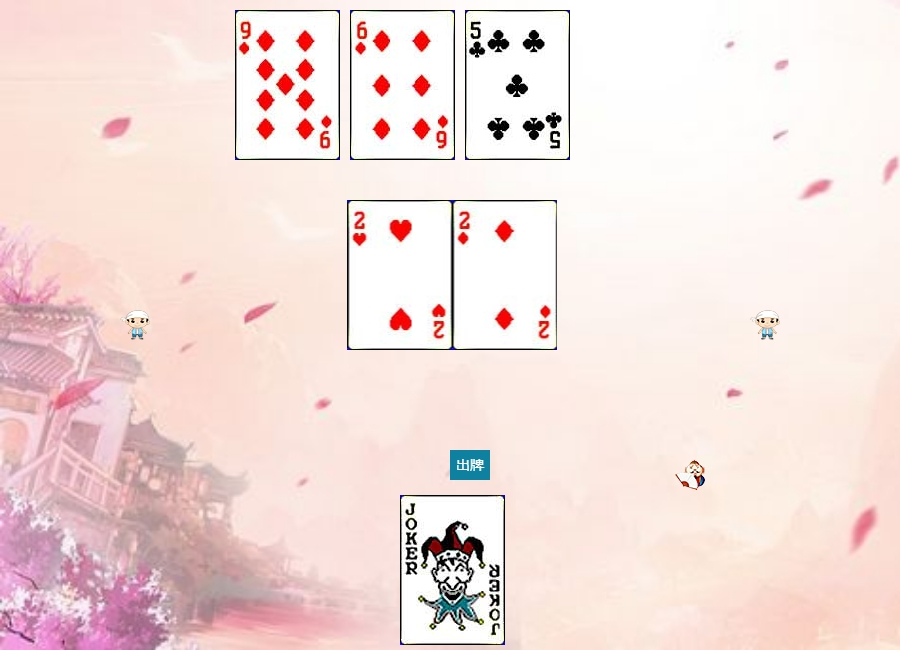15~1: (453, 200, 558, 350)
15~3: (348, 200, 453, 350)
17~3: (400, 495, 505, 645)
5~2: (465, 10, 570, 160)
6~1: (350, 10, 455, 160)
9~1: (235, 10, 340, 160)
